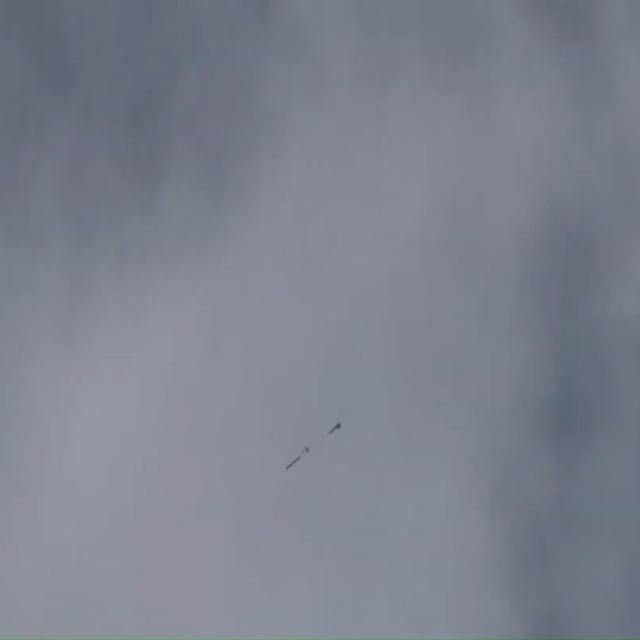Rocket: (330, 422, 340, 433)
